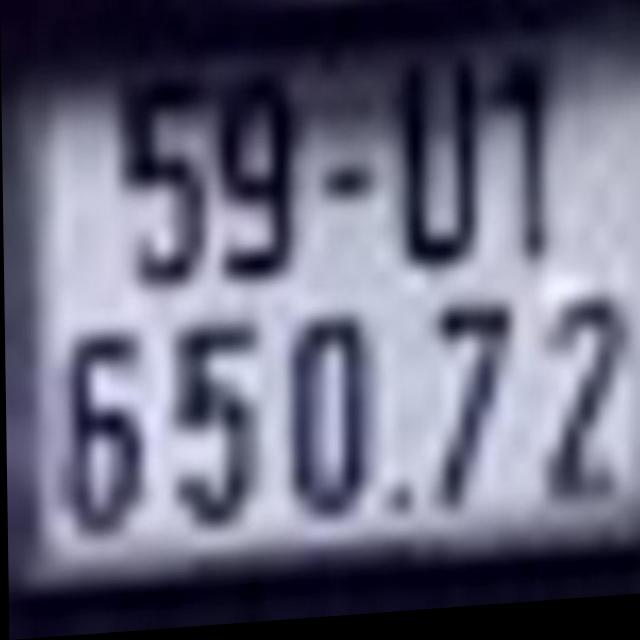0: (284, 310, 374, 527)
1: (492, 56, 556, 276)
2: (539, 296, 626, 520)
5: (168, 314, 261, 542), (121, 86, 207, 286)
6: (59, 310, 146, 544)
7: (411, 291, 505, 528)
9: (217, 78, 292, 280)
U: (385, 54, 486, 282)
